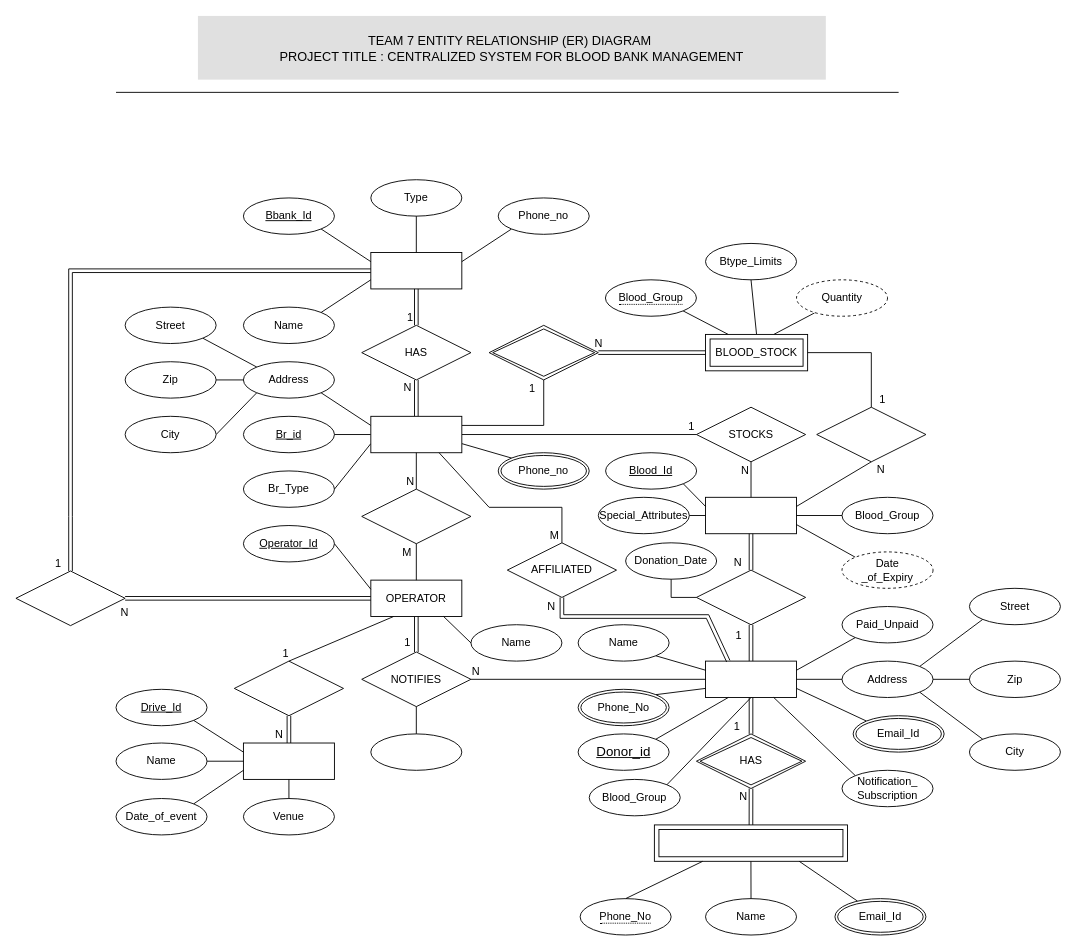
Some shapes in this 1077 by 951 pixel diagram are drawn without their labels. Here are the shapes that lost their labels. From the top down, the box of each, then its label:
(370, 252, 462, 289): BLOOD_BANK
(488, 324, 598, 380): MAINTAINS
(370, 415, 462, 453): BRANCHES
(816, 406, 926, 462): CONTAINS
(361, 488, 471, 544): NOTIFIED_BY
(705, 496, 797, 534): BLOOD
(15, 570, 125, 626): MANAGED_BY
(696, 569, 806, 625): DONATED_BY
(233, 660, 344, 716): ORGANIZES
(705, 660, 797, 698): DONOR
(243, 742, 334, 779): BLOOD_ DONATION_ EVENT
(370, 733, 462, 770): Notification_Type
(653, 824, 847, 861): EMERGENCY_CONTACT_INFO
